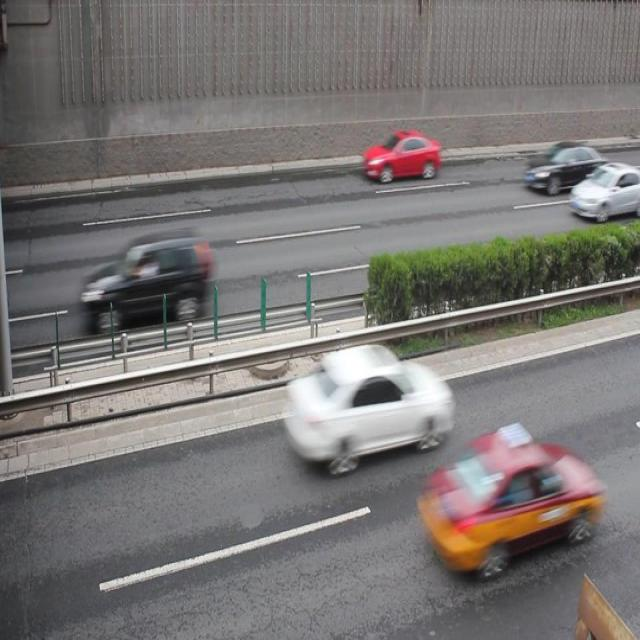car: (412, 424, 588, 575), (283, 343, 450, 470), (81, 230, 212, 332), (524, 140, 608, 194), (361, 128, 440, 184), (567, 162, 640, 221)
